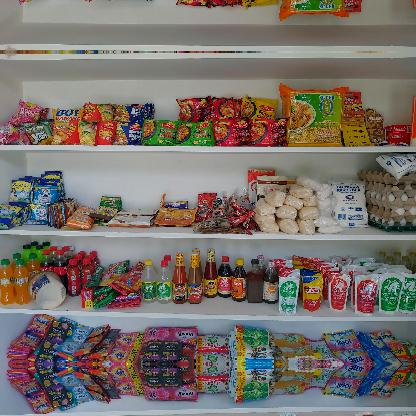Lady-s-Choice: (26, 268, 68, 310)
